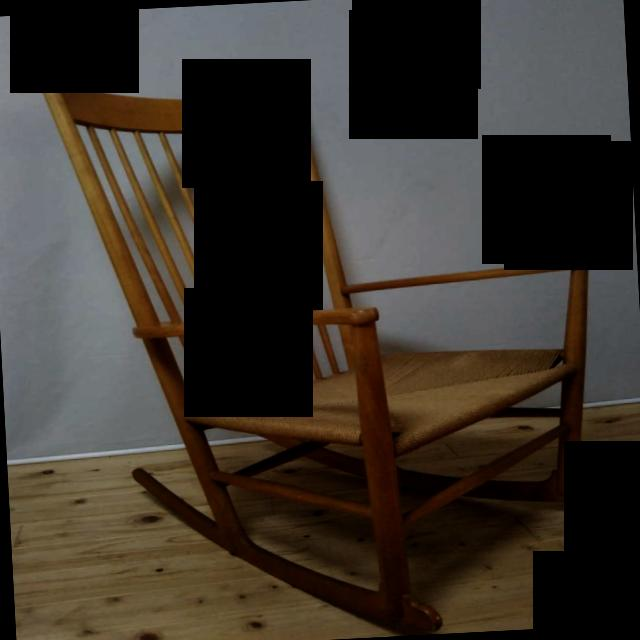chair vintage: (29, 27, 608, 640)
